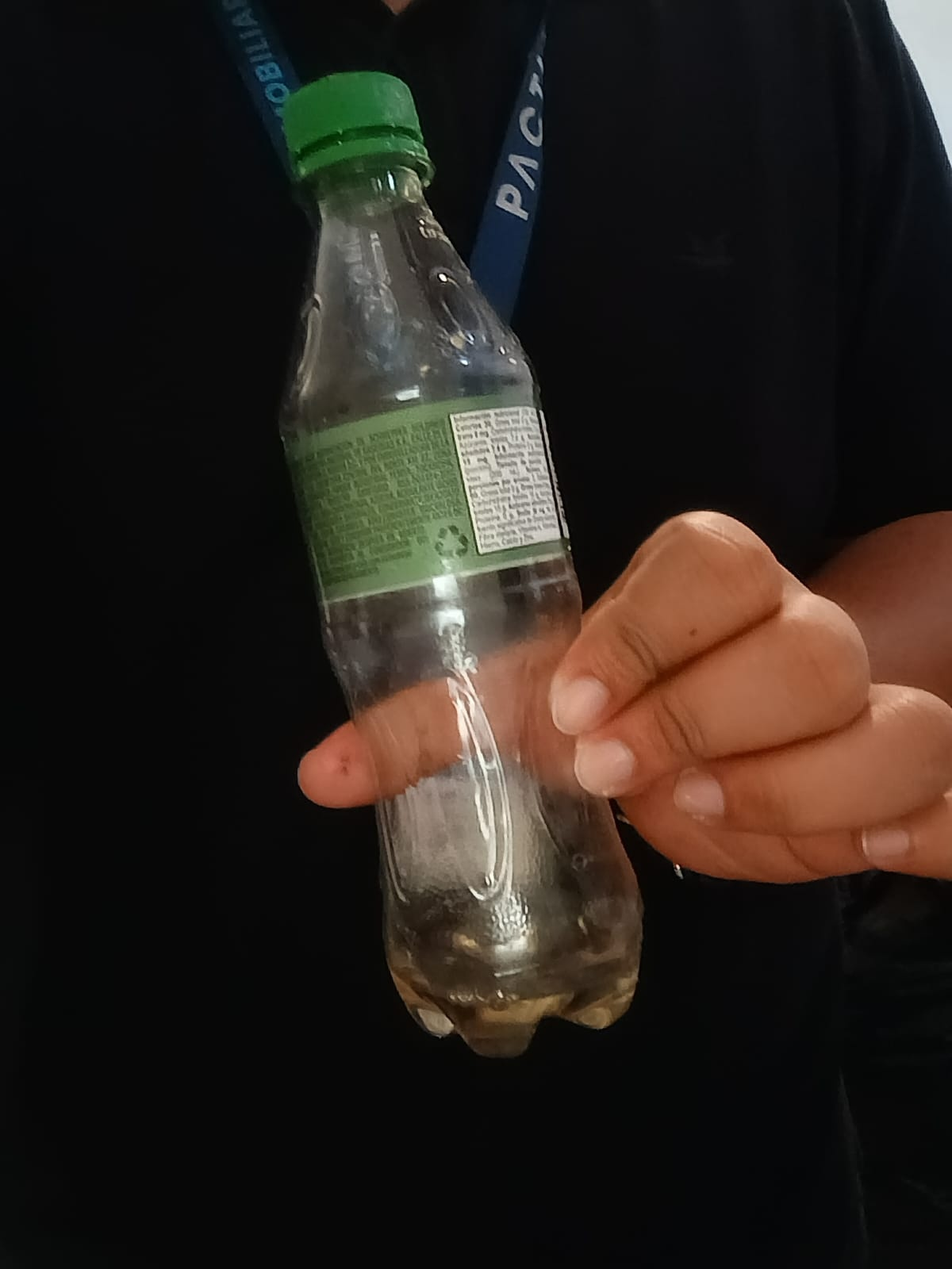Plastico: (276, 73, 637, 1058)
